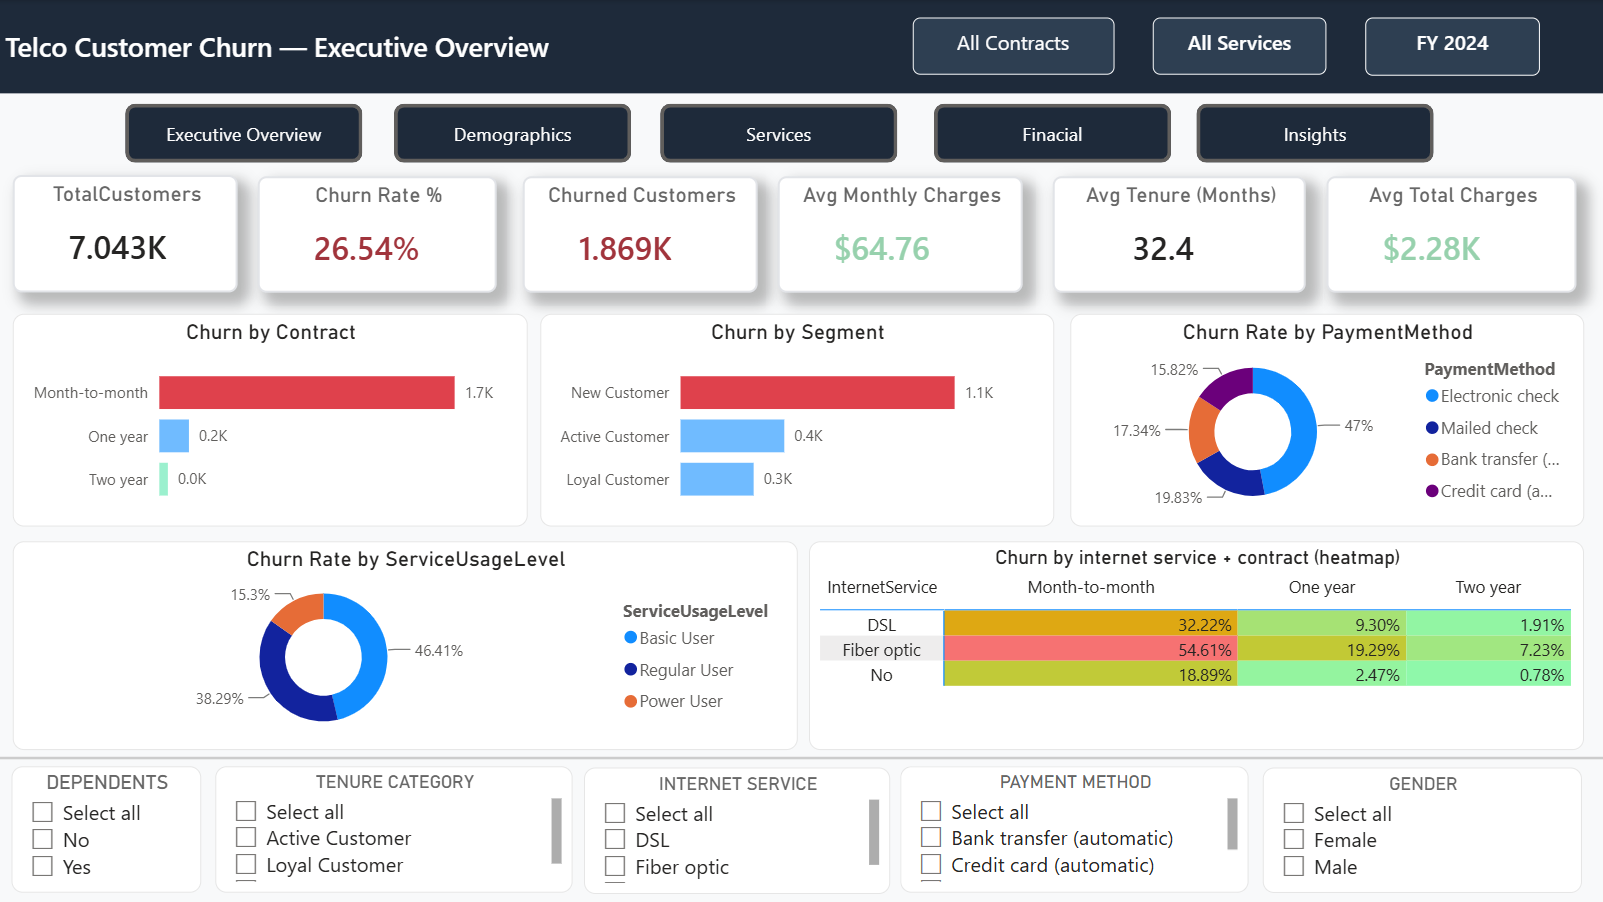

The page's visual inventory and layout, read from the dashboard file:
{"tool":"powerbi","page":{"name":"Executive Overview","canvas":[1280,720],"ordinal":0},"visuals":[{"type":"textbox","box":[0,0,1280.3,74.1],"z":0},{"type":"textbox","box":[728.6,13.7,160.5,45.3],"z":1000},{"type":"textbox","box":[919.4,13.7,138.6,45.3],"z":2000},{"type":"textbox","box":[1088.4,14,139.5,46.5],"z":3000},{"type":"cardVisual","title":"TotalCustomers","fields":{"Data":["Count(WA_Fn-UseC_-Telco-Customer-Churn.CustomerID)"]},"box":[11,139.5,179.3,93.6],"z":4000},{"type":"cardVisual","title":"Churn Rate %","fields":{"Data":["WA_Fn-UseC_-Telco-Customer-Churn.Churn Rate"]},"box":[206.2,140.5,190.3,92.6],"z":5000},{"type":"cardVisual","title":"Churned Customers","fields":{"Data":["WA_Fn-UseC_-Telco-Customer-Churn.Total Churn"]},"box":[417.4,140.5,187.3,92.6],"z":6000},{"type":"cardVisual","title":"Avg Monthly Charges","fields":{"Data":["Avg(WA_Fn-UseC_-Telco-Customer-Churn.MonthlyRevenue)"]},"box":[620.6,140.5,195.2,92.6],"z":7000},{"type":"cardVisual","title":"Avg Tenure (Months)","fields":{"Data":["Avg(WA_Fn-UseC_-Telco-Customer-Churn.Tenure)"]},"box":[839.7,140.5,201.2,92.6],"z":8000},{"type":"cardVisual","title":"Avg Total Charges","fields":{"Data":["Avg(WA_Fn-UseC_-Telco-Customer-Churn.TotalRevenue)"]},"box":[1057.9,140.5,199.2,92.6],"z":9000},{"type":"barChart","title":"Churn by Contract","fields":{"Category":["WA_Fn-UseC_-Telco-Customer-Churn.Contract"],"Y":["WA_Fn-UseC_-Telco-Customer-Churn.Total Churn"]},"box":[11,250,410.4,169.3],"z":10000},{"type":"barChart","title":"Churn by Segment","fields":{"Category":["WA_Fn-UseC_-Telco-Customer-Churn.TenureCategory"],"Y":["WA_Fn-UseC_-Telco-Customer-Churn.Total Churn"]},"box":[431.3,250,409.4,169.3],"z":11000},{"type":"donutChart","fields":{"Category":["WA_Fn-UseC_-Telco-Customer-Churn.PaymentMethod"],"Y":["WA_Fn-UseC_-Telco-Customer-Churn.Churn Rate"]},"box":[853.7,250,409.4,169.3],"z":12000},{"type":"pivotTable","title":"Churn by internet service + contract (heatmap)","fields":{"Rows":["WA_Fn-UseC_-Telco-Customer-Churn.InternetService"],"Columns":["WA_Fn-UseC_-Telco-Customer-Churn.Contract"],"Values":["WA_Fn-UseC_-Telco-Customer-Churn.Churn Rate"]},"box":[645.4,431.4,617.4,166.3],"z":13000},{"type":"donutChart","fields":{"Category":["WA_Fn-UseC_-Telco-Customer-Churn.ServiceUsageLevel"],"Y":["WA_Fn-UseC_-Telco-Customer-Churn.Churn Rate"]},"box":[10.5,431.4,625.6,166.3],"z":14000},{"type":"shape","box":[0,597.7,1280.2,12.8],"z":15000},{"type":"slicer","title":"DEPENDENTS","fields":{"Values":["WA_Fn-UseC_-Telco-Customer-Churn.Dependents"]},"box":[10.3,610.8,150.9,100.6],"z":16000},{"type":"slicer","title":"TENURE CATEGORY","fields":{"Values":["WA_Fn-UseC_-Telco-Customer-Churn.TenureCategory"]},"box":[172.1,610.5,284.9,101.2],"z":17000},{"type":"slicer","title":"INTERNET SERVICE","fields":{"Values":["WA_Fn-UseC_-Telco-Customer-Churn.InternetService"]},"box":[466.3,611.6,244.2,101.2],"z":18000},{"type":"slicer","title":"PAYMENT METHOD","fields":{"Values":["WA_Fn-UseC_-Telco-Customer-Churn.PaymentMethod"]},"box":[718.6,610.5,277.9,101.2],"z":19000},{"type":"slicer","title":"GENDER","fields":{"Values":["WA_Fn-UseC_-Telco-Customer-Churn.Gender"]},"box":[1007,611.6,254.7,100],"z":20000},{"type":"actionButton","box":[100.7,82.8,189,46.9],"z":21000},{"type":"actionButton","box":[314.6,82.8,189,46.9],"z":22000},{"type":"actionButton","box":[527,82.8,189,46.9],"z":23000},{"type":"actionButton","box":[745,82.8,189,46.9],"z":24000},{"type":"actionButton","box":[954.7,82.8,189,46.9],"z":25000}]}

Visuals, with their boxes in screenshot pixels (x1, y1, x2, y2), scaled from the page's 1280x720 canvas onto the 1603x902 screenshot:
textbox: (left=0, top=0, right=1602, bottom=93)
textbox: (left=912, top=17, right=1113, bottom=74)
textbox: (left=1151, top=17, right=1325, bottom=74)
textbox: (left=1363, top=18, right=1538, bottom=76)
"TotalCustomers" cardVisual: (left=14, top=175, right=238, bottom=292)
"Churn Rate %" cardVisual: (left=258, top=176, right=497, bottom=292)
"Churned Customers" cardVisual: (left=523, top=176, right=757, bottom=292)
"Avg Monthly Charges" cardVisual: (left=777, top=176, right=1022, bottom=292)
"Avg Tenure (Months)" cardVisual: (left=1052, top=176, right=1304, bottom=292)
"Avg Total Charges" cardVisual: (left=1325, top=176, right=1574, bottom=292)
"Churn by Contract" barChart: (left=14, top=313, right=528, bottom=525)
"Churn by Segment" barChart: (left=540, top=313, right=1053, bottom=525)
donutChart - WA_Fn-UseC_-Telco-Customer-Churn.PaymentMethod x WA_Fn-UseC_-Telco-Customer-Churn.Churn Rate: (left=1069, top=313, right=1582, bottom=525)
"Churn by internet service + contract (heatmap)" pivotTable: (left=808, top=540, right=1581, bottom=749)
donutChart - WA_Fn-UseC_-Telco-Customer-Churn.ServiceUsageLevel x WA_Fn-UseC_-Telco-Customer-Churn.Churn Rate: (left=13, top=540, right=797, bottom=749)
shape: (left=0, top=749, right=1602, bottom=765)
"DEPENDENTS" slicer: (left=13, top=765, right=202, bottom=891)
"TENURE CATEGORY" slicer: (left=216, top=765, right=572, bottom=892)
"INTERNET SERVICE" slicer: (left=584, top=766, right=890, bottom=893)
"PAYMENT METHOD" slicer: (left=900, top=765, right=1248, bottom=892)
"GENDER" slicer: (left=1261, top=766, right=1580, bottom=891)
actionButton: (left=126, top=104, right=363, bottom=162)
actionButton: (left=394, top=104, right=631, bottom=162)
actionButton: (left=660, top=104, right=897, bottom=162)
actionButton: (left=933, top=104, right=1170, bottom=162)
actionButton: (left=1196, top=104, right=1432, bottom=162)
